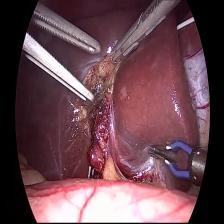Bipolar: (146, 138, 213, 189)
Grasper: (21, 2, 102, 106), (109, 0, 174, 66)
